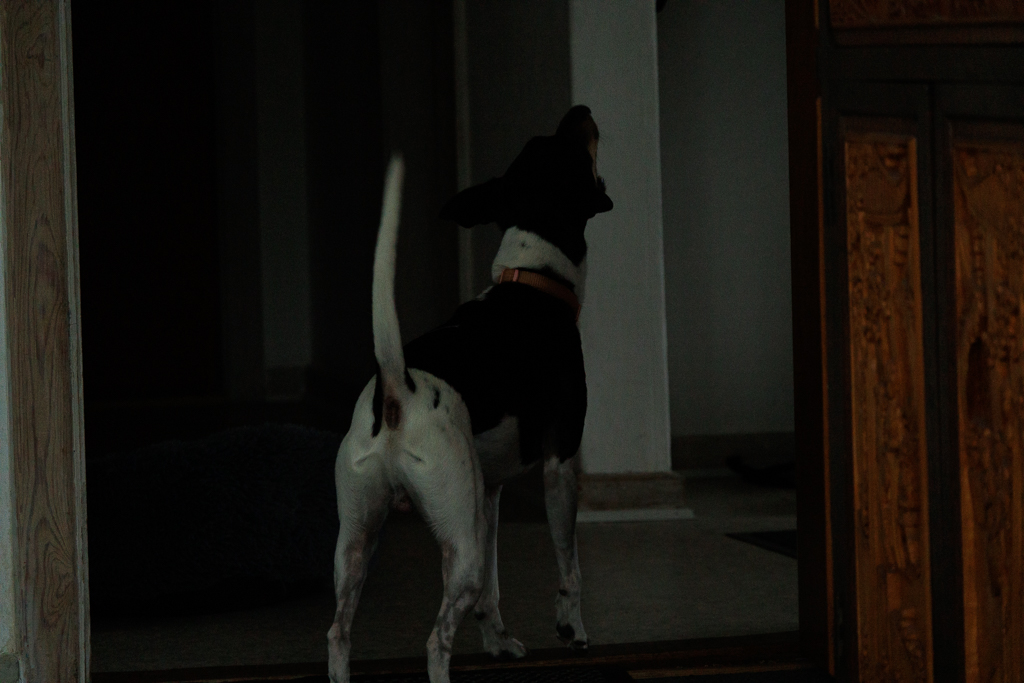Dog: (312, 91, 625, 683)
